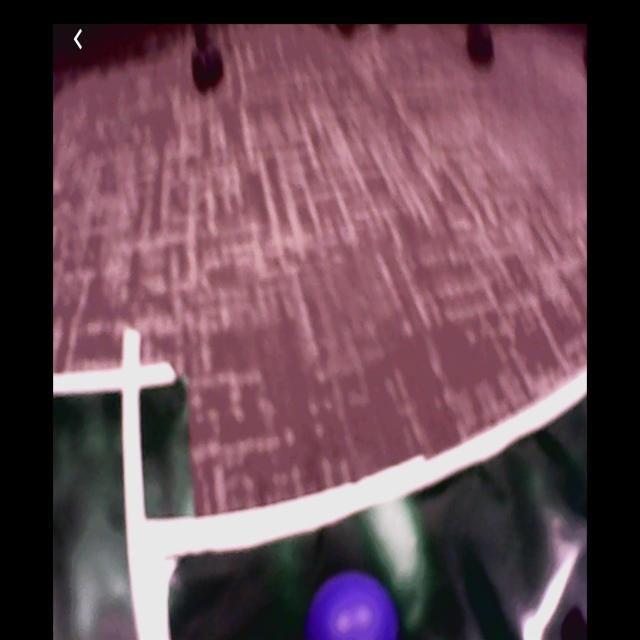ball: (310, 575, 395, 640)
